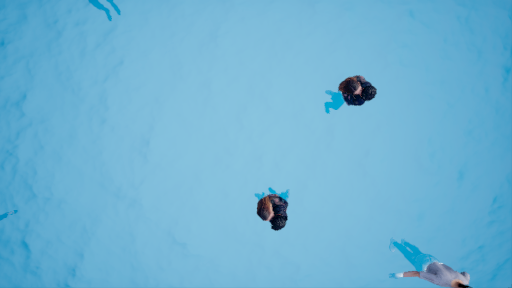person: (388, 236, 478, 286), (317, 76, 380, 120), (241, 182, 295, 230)
